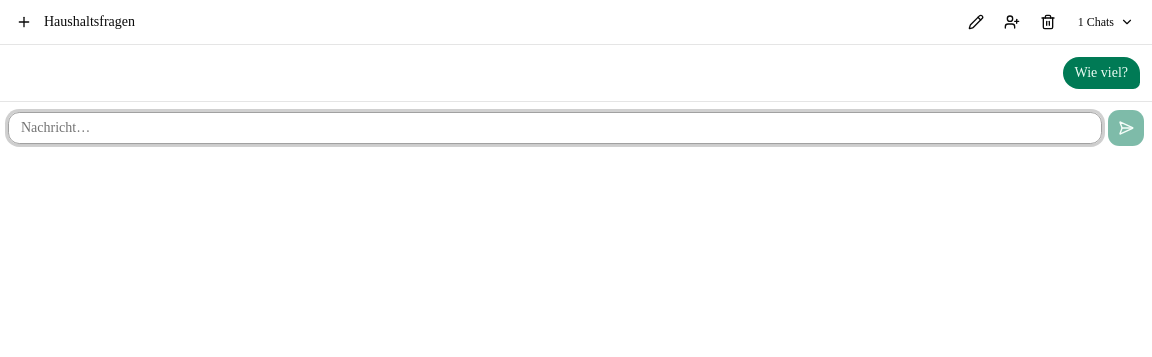
Test case: <AgentChat> › raced detail fetch with the persisted user row shows the message once
Expected: the text "Haushaltsfragen" is shown, 44,14 -> 135,29
Expected: the text "Wie viel?" is shown, 1074,63 -> 1128,83
Type "Wie viel?" into the field with placeholder "Nachricht…".
click(555, 128); type("Wie viel?")  # box 8,112 -> 1102,144
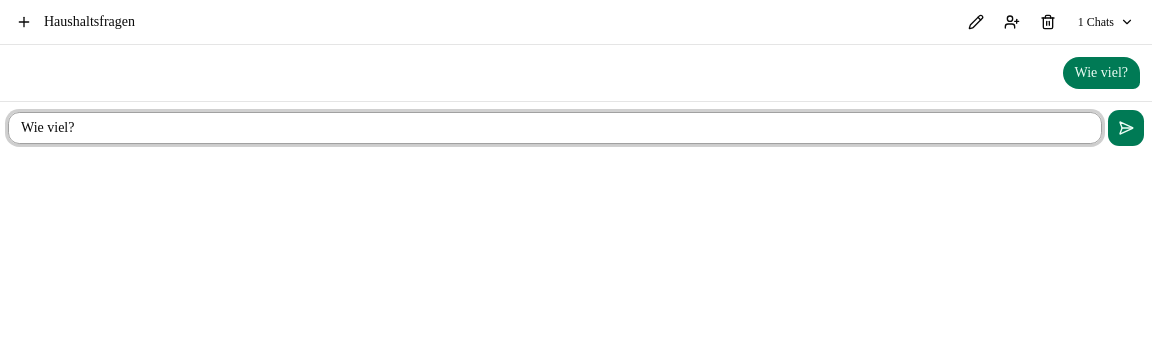
Click the button named "Senden".
click(1126, 128)  # box 1108,110 -> 1144,146
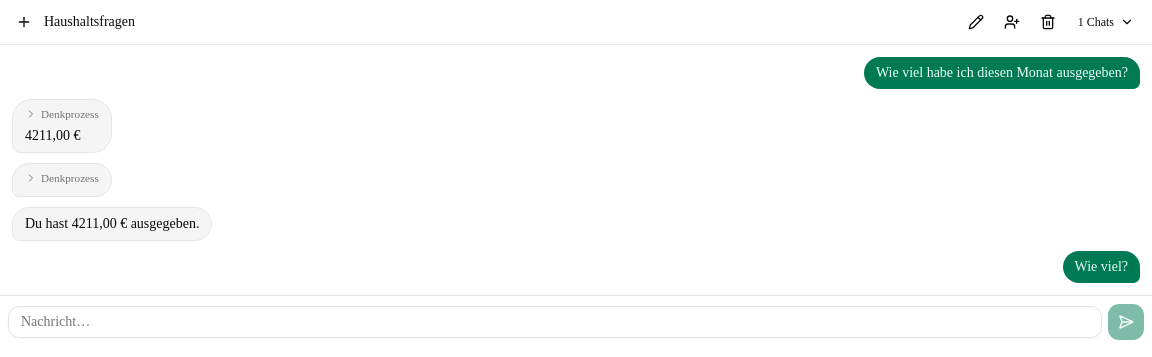
Now the text "4211,00 €" is shown, box 25,128 -> 80,143
Now the text "Wie viel?" is shown once, box 1074,257 -> 1128,277
Now the text "Du hast 4211,00 € ausgegeben." is shown once, box 25,214 -> 200,234
